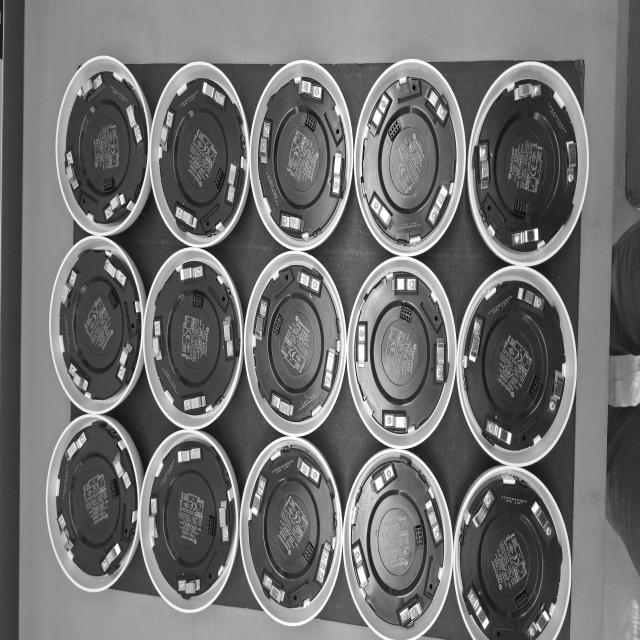yayli: (368, 90, 393, 136), (396, 593, 425, 628), (466, 586, 488, 632), (531, 500, 555, 542), (351, 539, 370, 591), (368, 192, 392, 233), (428, 183, 449, 229), (425, 86, 449, 126), (472, 488, 496, 528), (526, 603, 551, 640), (370, 461, 397, 495), (547, 370, 566, 417), (424, 498, 442, 546), (296, 455, 322, 488), (261, 570, 285, 604), (315, 541, 333, 586), (250, 474, 268, 517), (113, 450, 132, 490), (486, 418, 513, 446), (516, 286, 545, 312), (468, 317, 484, 364), (322, 347, 339, 391), (116, 342, 134, 383), (253, 298, 270, 340), (66, 429, 88, 460), (100, 542, 121, 574), (68, 362, 89, 394), (103, 192, 126, 221), (511, 227, 540, 250), (104, 258, 126, 288), (126, 104, 142, 145), (297, 270, 323, 295), (477, 141, 490, 191), (202, 81, 226, 108), (159, 111, 174, 152), (61, 270, 78, 306), (58, 515, 74, 553), (270, 392, 293, 418), (330, 152, 343, 198), (565, 140, 577, 188), (174, 204, 197, 229), (258, 121, 271, 165), (80, 74, 102, 100), (514, 82, 542, 102), (65, 152, 79, 192), (382, 410, 408, 431), (298, 78, 322, 100), (226, 162, 238, 205), (356, 322, 367, 368), (149, 498, 160, 543), (280, 213, 303, 234), (223, 316, 234, 358), (177, 445, 201, 464), (391, 276, 417, 293), (152, 318, 162, 360), (180, 264, 203, 282), (436, 338, 445, 383), (219, 500, 229, 540), (183, 395, 205, 413), (178, 578, 200, 595)
